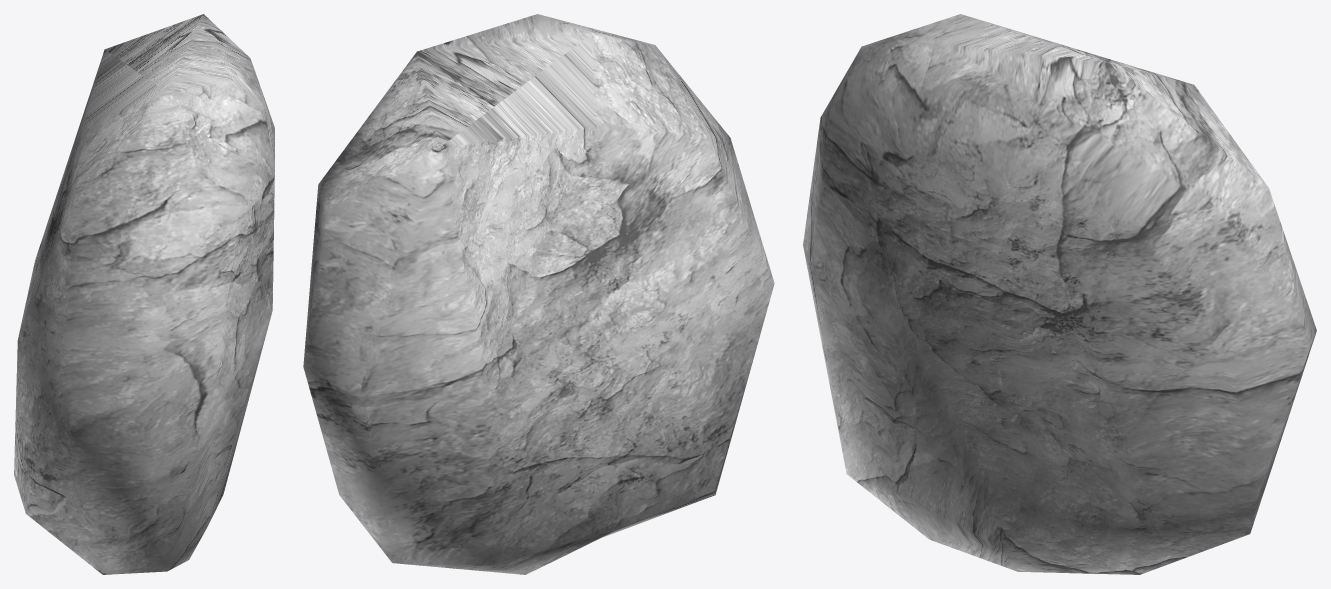
The model's file is Rock_Big_02.fbx.
3 views of the same model, side by side, from view 1: azimuth 30°, elevation 25°; view 2: azimuth 150°, elevation 25°; view 3: azimuth 270°, elevation 25° (orthographic). The views are drawn at different scales.
Visible parts, largest first — view 1: Rock_Big_02; view 2: Rock_Big_02; view 3: Rock_Big_02.
Boxes of the visible parts, <box> form: Rock_Big_02: <box>14,14,274,574</box>; Rock_Big_02: <box>303,14,774,574</box>; Rock_Big_02: <box>803,14,1316,574</box>.
Bounding box in the file's own units: 6223 × 9770 × 8448.
